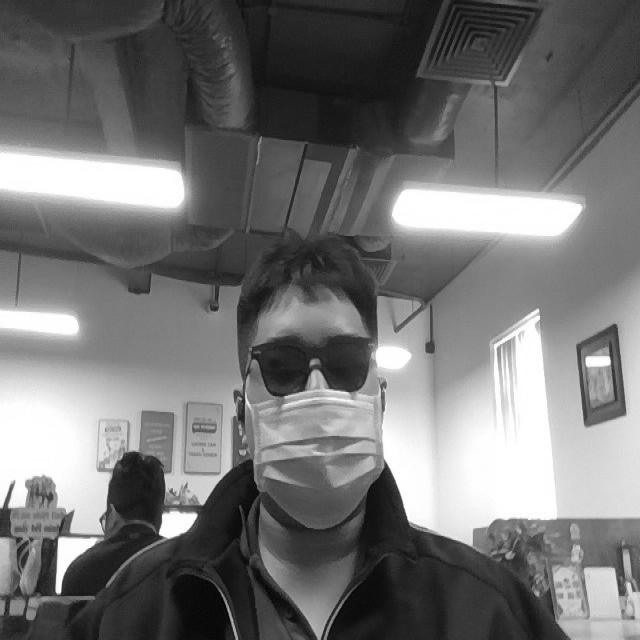fake: (255, 387, 385, 531), (242, 334, 376, 397)
